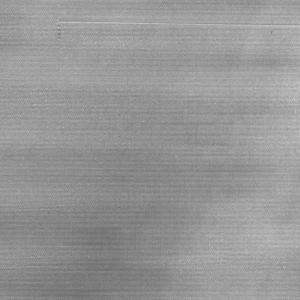Wrinkle: (1, 131, 284, 300), (1, 1, 300, 116)
